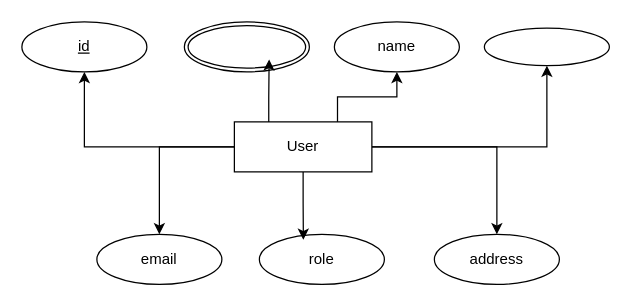
Some shapes in this 631 by 306 pixel diagram are drawn without their labels. The centre of each missing label's shape, as x and y in pixels:
password: point 546,46
phone_number: point 246,46
